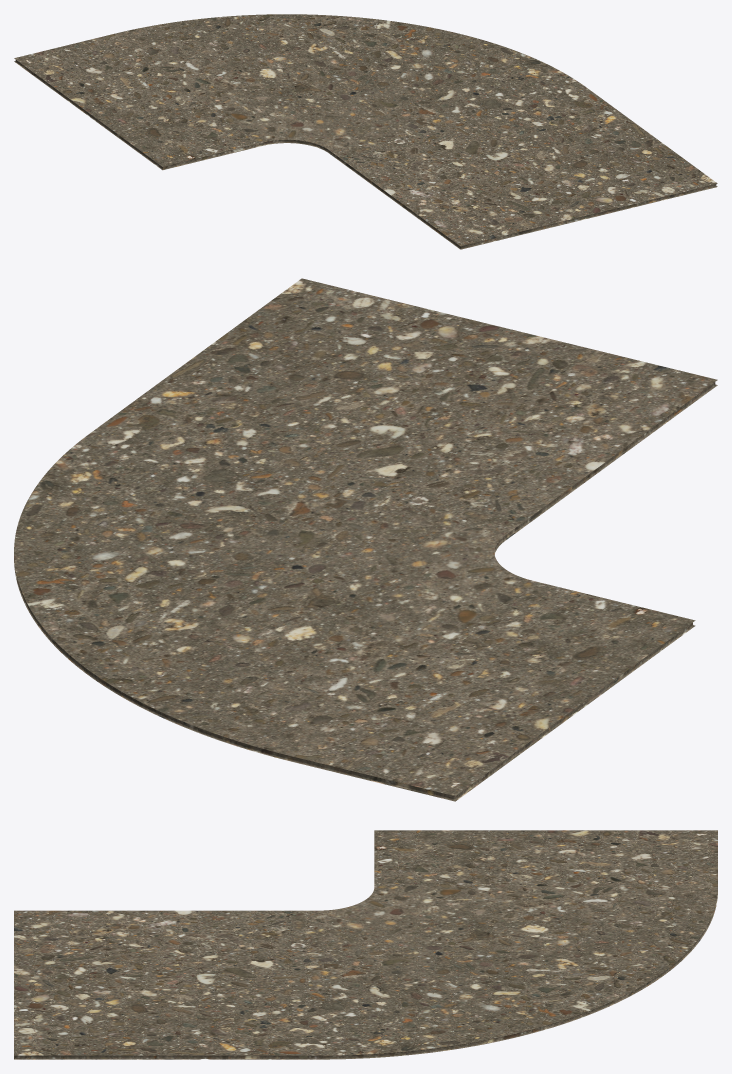
The model's file is Airfield_Taxiway_HQ23_Compact_LOD1.glb.
The picture shows the model from 3 angles, top to bottom: view 1: azimuth 30°, elevation 25°; view 2: azimuth 150°, elevation 25°; view 3: azimuth 270°, elevation 25°; orthographic projection. The views are drawn at different scales.
Parts seen in each view (by area): view 1: Airfield Taxiway Apron-to-Runway LOD1; view 2: Airfield Taxiway Apron-to-Runway LOD1; view 3: Airfield Taxiway Apron-to-Runway LOD1.
Boxes of the visible parts, bbox=[...] form: Airfield Taxiway Apron-to-Runway LOD1: bbox=[14, 14, 717, 249]; Airfield Taxiway Apron-to-Runway LOD1: bbox=[14, 278, 717, 801]; Airfield Taxiway Apron-to-Runway LOD1: bbox=[14, 830, 717, 1059].
Size of the model in its own units: 28.11 by 0.22 by 37.11.
Materials: 1 (1 with a texture image).
